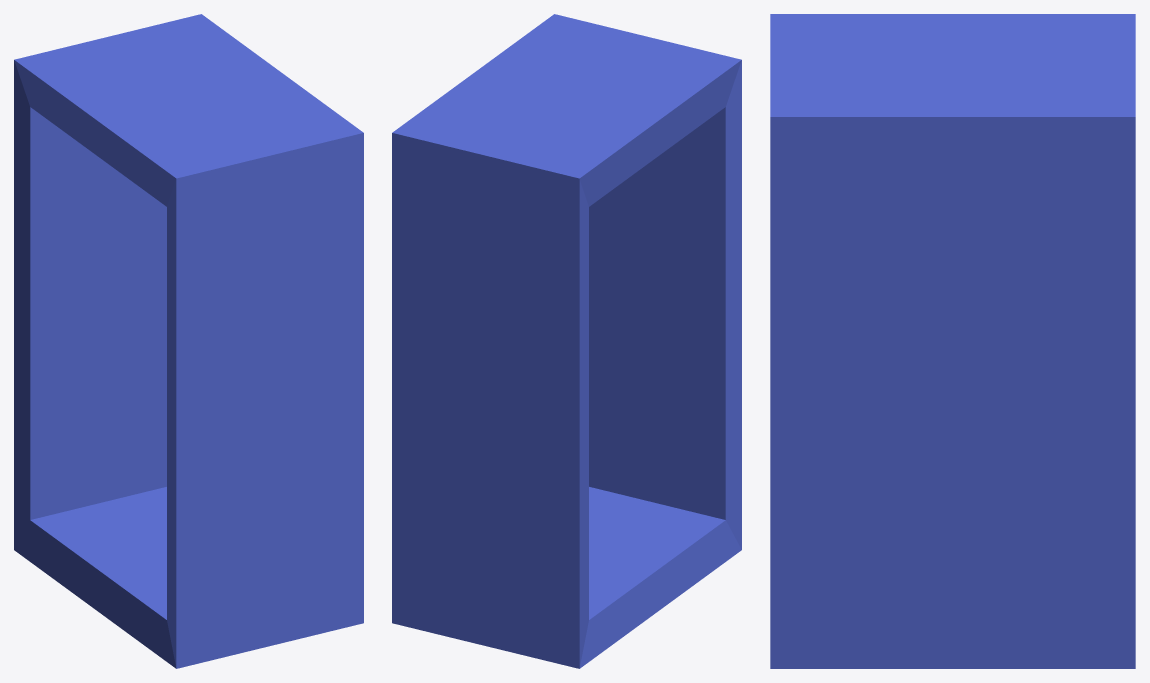
The model's file is Pool.fbx.
3 renders of one model, left to right at view 1: azimuth 30°, elevation 25°; view 2: azimuth 150°, elevation 25°; view 3: azimuth 270°, elevation 25°, orthographic. The views are drawn at different scales.
Visible parts, largest first — view 1: Cube; view 2: Cube; view 3: Cube.
Part boxes in pixels (left/top/right/bottom): Cube: left=14, top=14, right=363, bottom=668; Cube: left=392, top=14, right=741, bottom=668; Cube: left=770, top=14, right=1135, bottom=668.
Bounding box in the file's own units: 400 × 1000 × 600.
